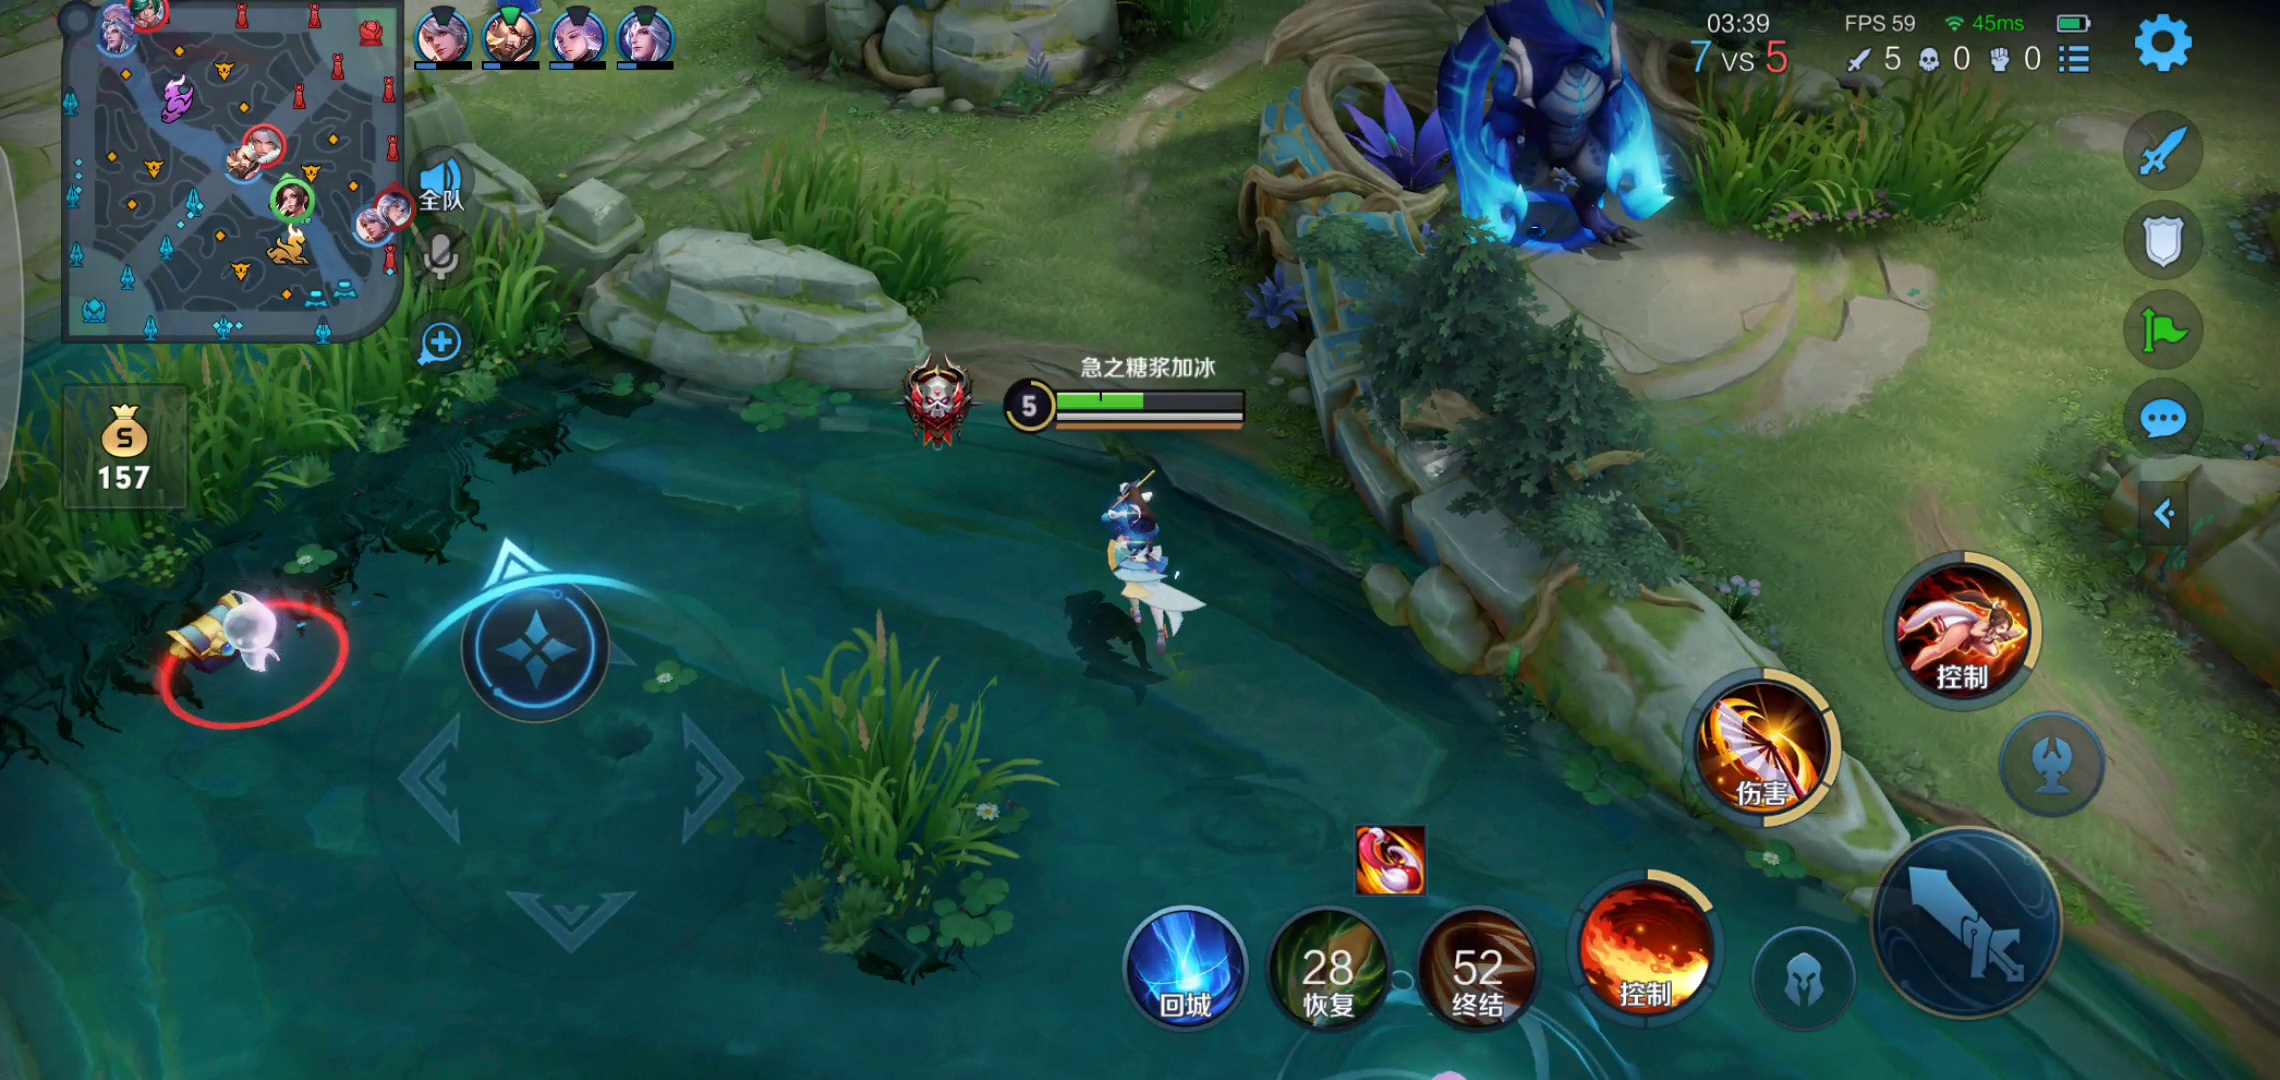buff: (1358, 1, 1675, 275)
grass: (7, 225, 574, 610), (746, 635, 996, 914), (1703, 73, 2031, 235), (730, 138, 967, 302)
hero: (1051, 456, 1232, 663)
